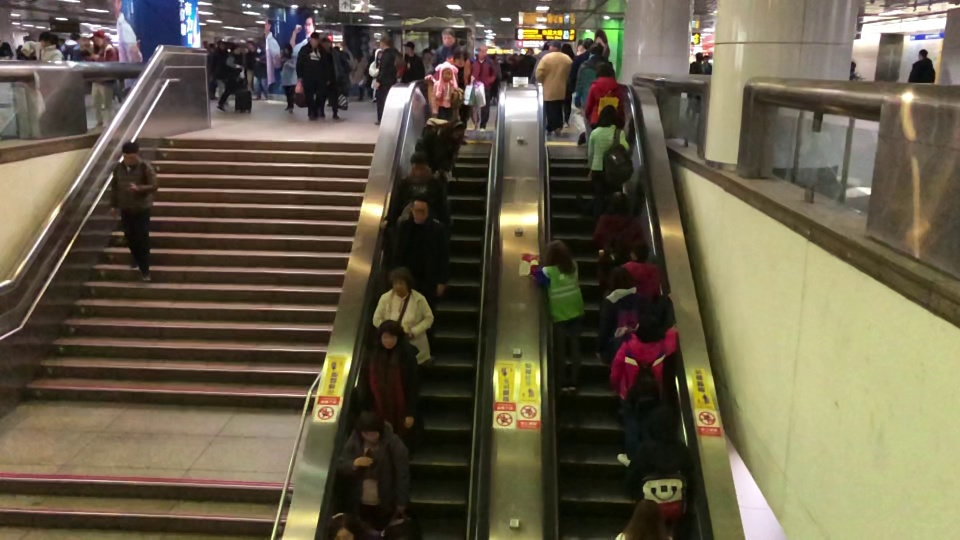person_head: (624, 498, 664, 534), (648, 406, 677, 436), (356, 412, 384, 441), (388, 266, 413, 296), (636, 315, 662, 341), (541, 239, 569, 263), (408, 149, 430, 179), (377, 319, 400, 347), (408, 194, 428, 222), (607, 190, 631, 213), (628, 238, 651, 262), (607, 264, 631, 287), (596, 103, 619, 125), (120, 139, 139, 162), (596, 60, 617, 76), (450, 120, 465, 141), (441, 27, 455, 45), (454, 48, 468, 66), (37, 31, 51, 47), (91, 31, 104, 46), (590, 42, 603, 56), (441, 65, 453, 79), (403, 41, 414, 56), (309, 32, 320, 46), (548, 40, 562, 51), (581, 37, 592, 51), (68, 32, 80, 44), (917, 47, 929, 58), (380, 35, 391, 46), (230, 43, 240, 55), (478, 45, 487, 58), (283, 42, 292, 54), (694, 51, 702, 61), (247, 40, 254, 49), (376, 49, 382, 59), (850, 62, 856, 72), (217, 41, 224, 48), (704, 54, 710, 62)
person_vbox: (610, 314, 680, 467), (521, 240, 585, 396), (336, 411, 412, 526), (625, 406, 696, 521), (597, 264, 674, 365), (362, 319, 425, 439), (109, 139, 159, 280), (385, 195, 450, 297), (371, 265, 435, 366), (381, 148, 452, 228), (592, 189, 645, 285), (587, 103, 635, 201), (575, 42, 616, 153), (535, 38, 572, 133), (84, 30, 117, 127), (408, 119, 465, 173), (295, 32, 329, 119), (584, 61, 630, 123), (446, 48, 472, 144), (622, 237, 662, 297), (564, 37, 591, 124), (473, 44, 498, 133), (374, 34, 397, 128), (216, 43, 241, 112), (21, 30, 64, 62), (278, 41, 297, 111), (431, 64, 456, 113), (430, 26, 456, 73), (908, 47, 936, 83), (212, 40, 227, 103), (401, 41, 424, 81), (60, 32, 81, 61), (245, 40, 254, 90), (688, 52, 704, 72), (848, 60, 864, 80), (705, 54, 711, 72)
